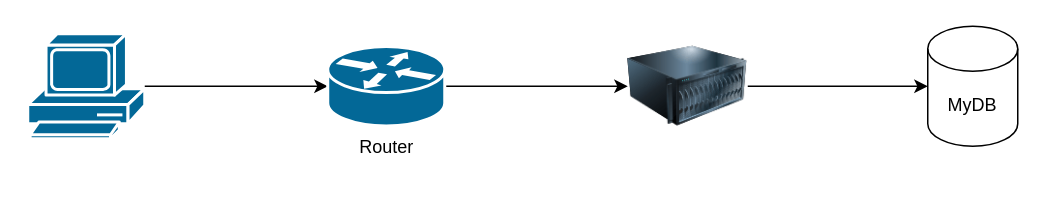
The diagram is 1044 pixels wide and 204 high, and some of its shapes have lost their labels. Here are the shapes that lost their labels. From the top down, the centre of each, then its label:
the point at 86,86: PC
the point at 687,86: Server
